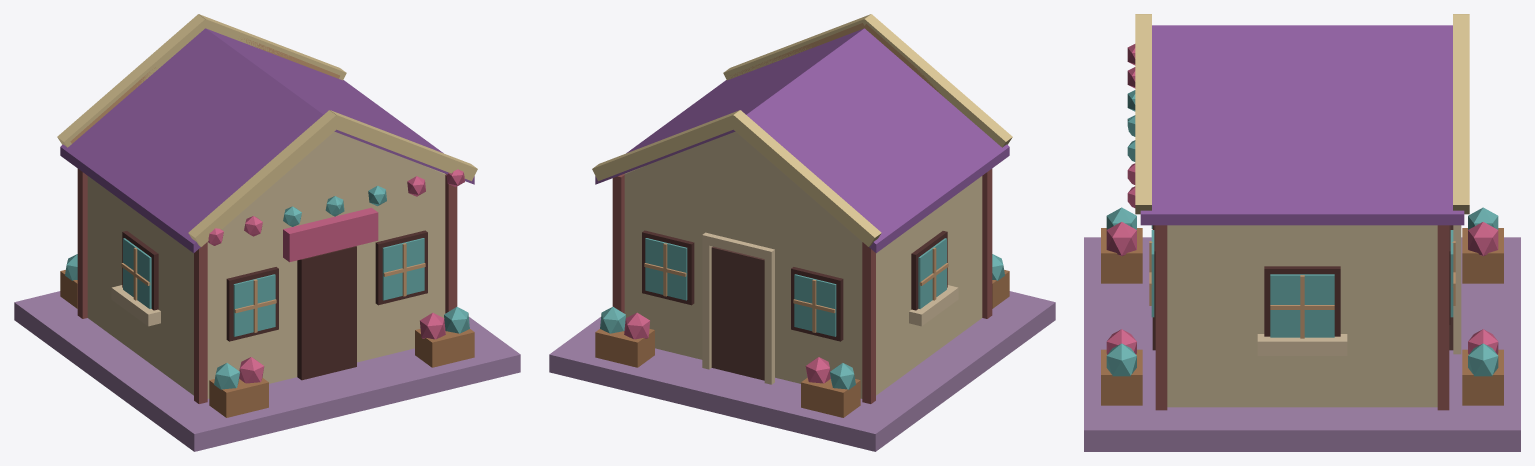
Rendered from Candyland_GingerbreadHouse_Standard.glb.
3 views of the same model, side by side, from view 1: azimuth 30°, elevation 25°; view 2: azimuth 150°, elevation 25°; view 3: azimuth 270°, elevation 25° (orthographic). The views are drawn at different scales.
Parts seen in each view (by area): view 1: Candyland_GingerbreadHouse_Standard; view 2: Candyland_GingerbreadHouse_Standard; view 3: Candyland_GingerbreadHouse_Standard.
Part boxes in pixels (<box>): Candyland_GingerbreadHouse_Standard: <box>14,14,520,451</box>; Candyland_GingerbreadHouse_Standard: <box>549,14,1055,451</box>; Candyland_GingerbreadHouse_Standard: <box>1084,14,1520,451</box>.
Bounding box in the file's own units: 4.6 × 3.79 × 4.4.
